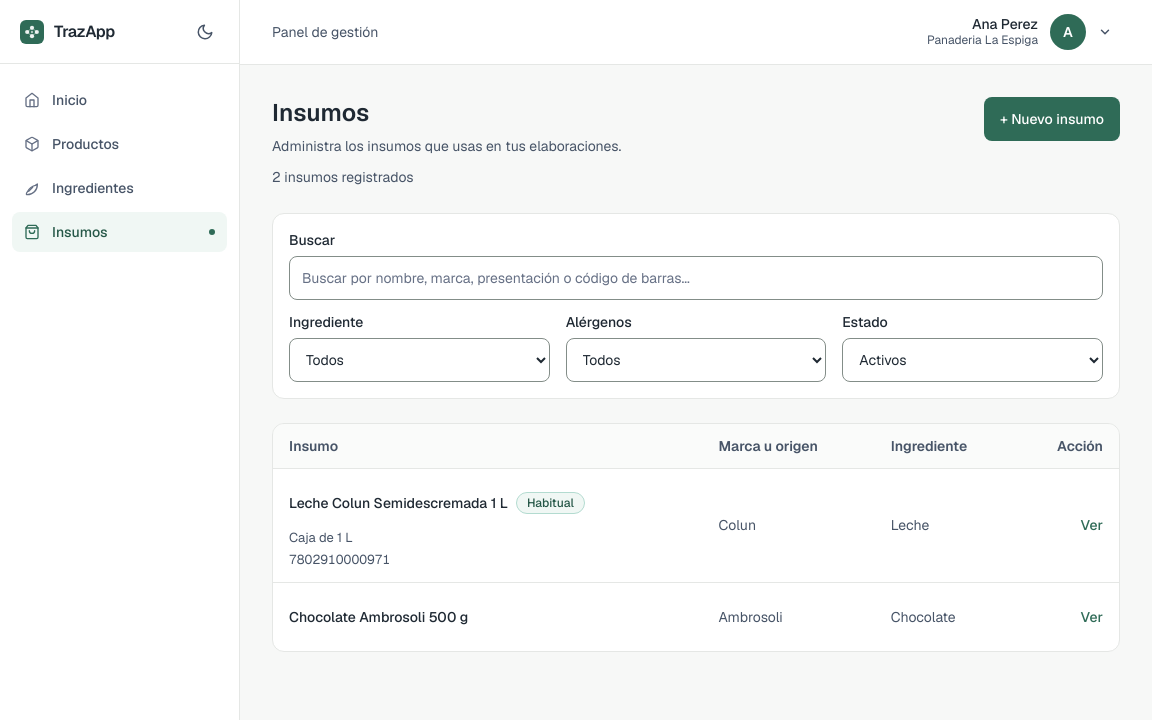
Test: Filtros del listado › filtra por ingrediente y lo muestra como chip que se puede quitar
Check: the table is shown, box top-left (273, 424), bottom-right (1119, 651)
Select "Chocolate" in the dropdown named "Filtrar por ingrediente": (419, 360) top-left (289, 338), bottom-right (550, 382)
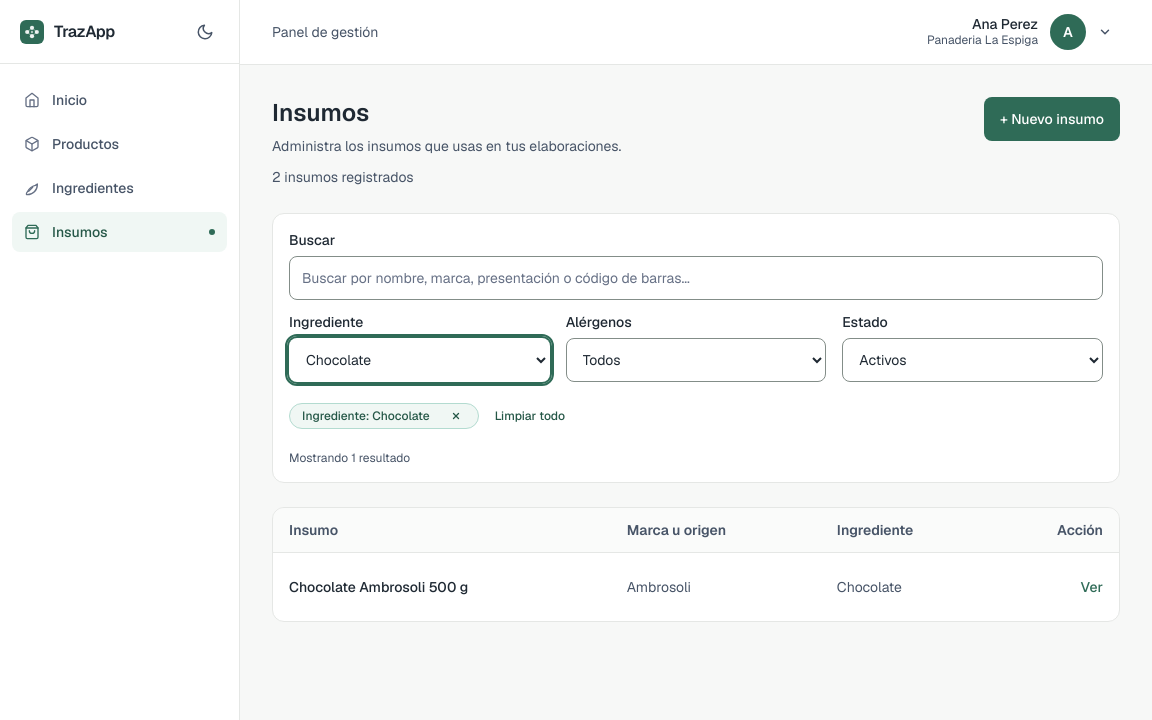
Check: the link with aria-label "Ver insumo Chocolate Ambrosoli" is shown, box top-left (289, 578), bottom-right (468, 596)
Check: the text "Ingrediente: Chocolate" is shown, box top-left (289, 402), bottom-right (479, 428)
Click the button named "Quitar filtro: Ingrediente: Chocolate": (456, 416) top-left (434, 394), bottom-right (478, 438)
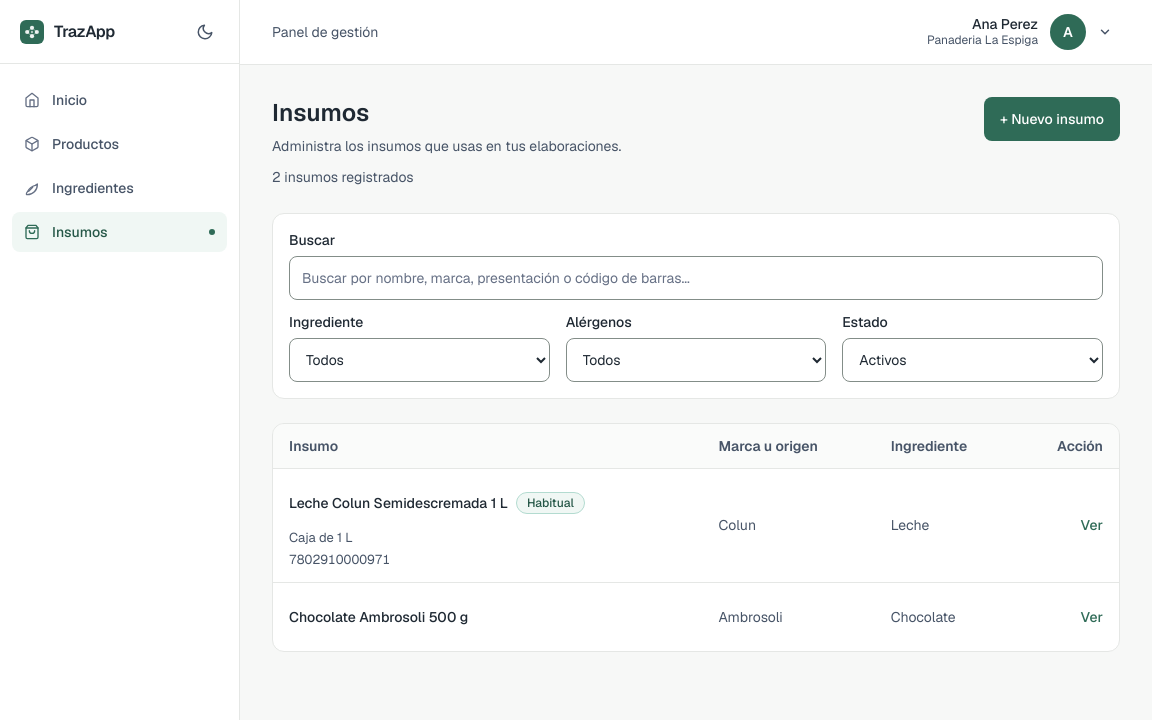
Check: the link with aria-label "Ver insumo Leche Colun" is shown, box top-left (289, 494), bottom-right (508, 512)
